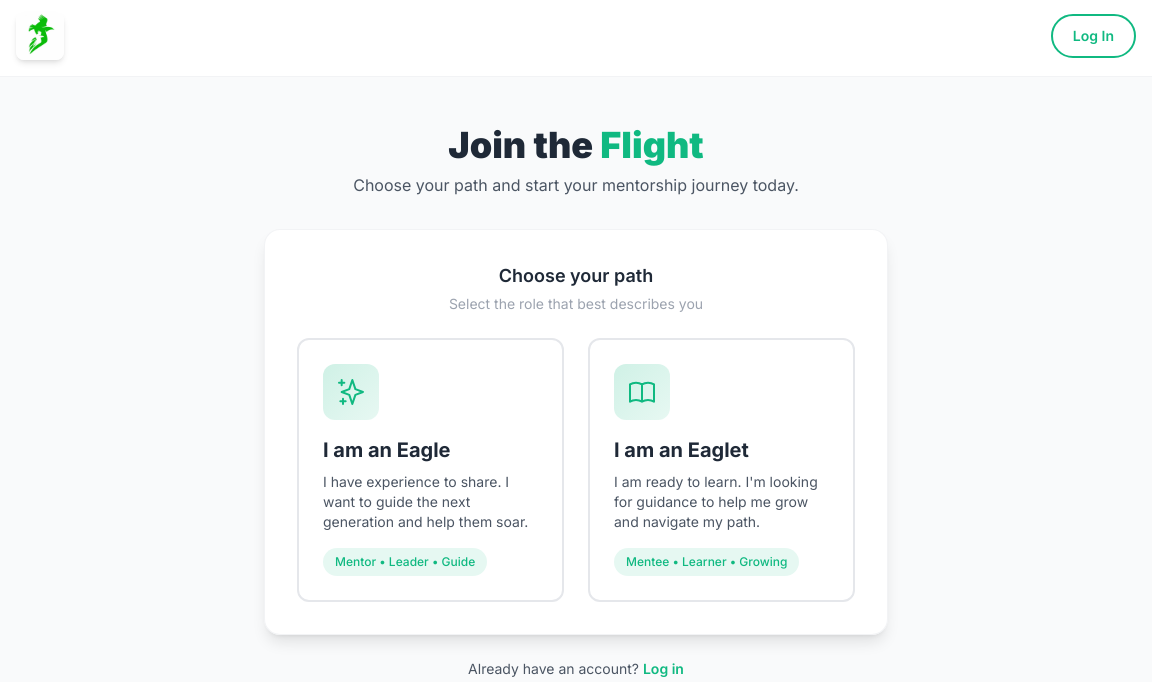
Test: RegisterPage › renders the password strength meter as the user types
Click the heading "I am an Eaglet": (681, 450) [614,436,749,464]
(page scrolled)
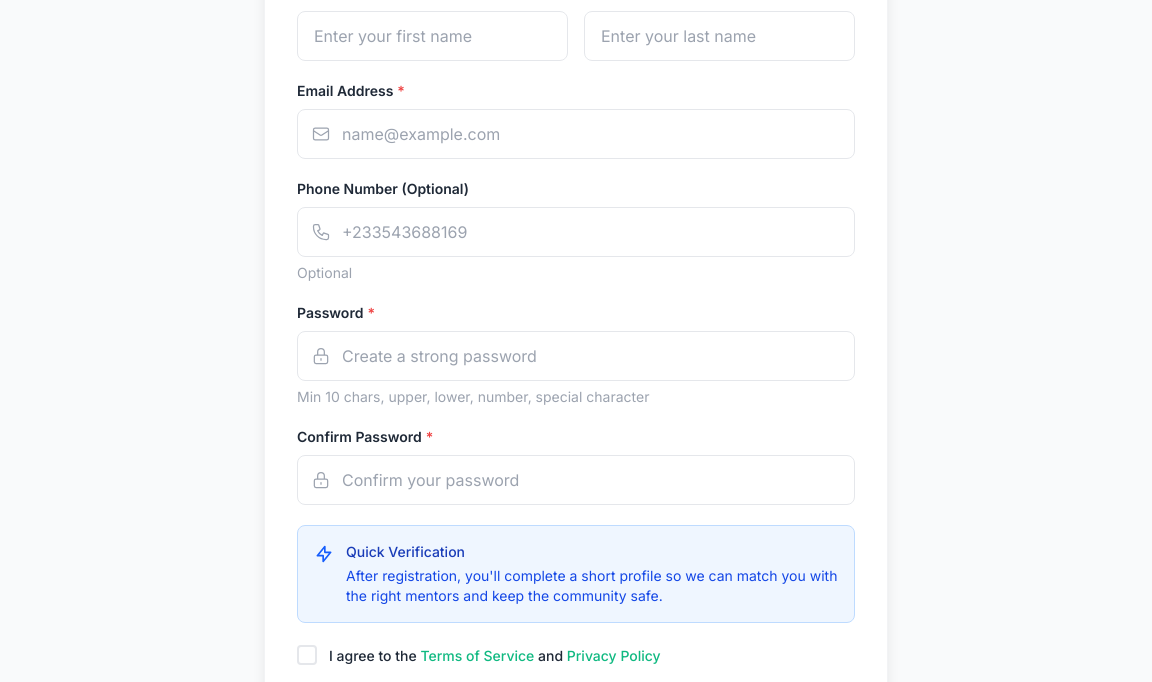
In the password field labelled "Password*": (576, 356) [297,331,855,381], type "abc"
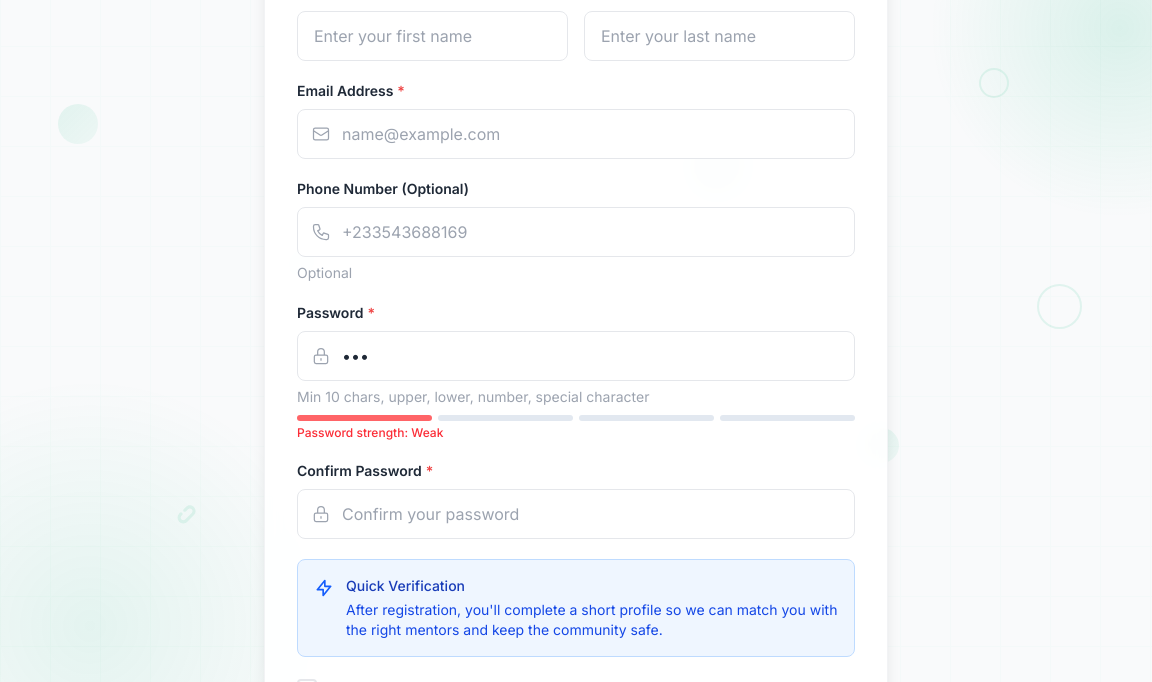
Now the text "Password strength: Weak" is shown, box [297,425,443,440]
